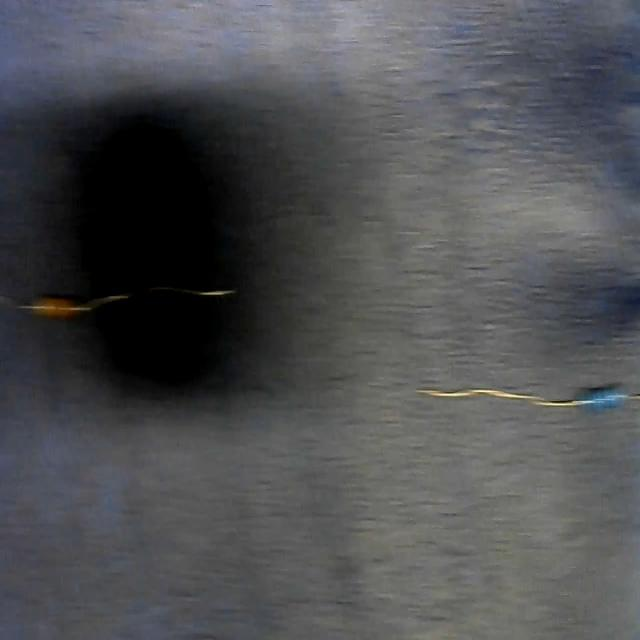resistor: (413, 372, 640, 420), (3, 286, 235, 313)
